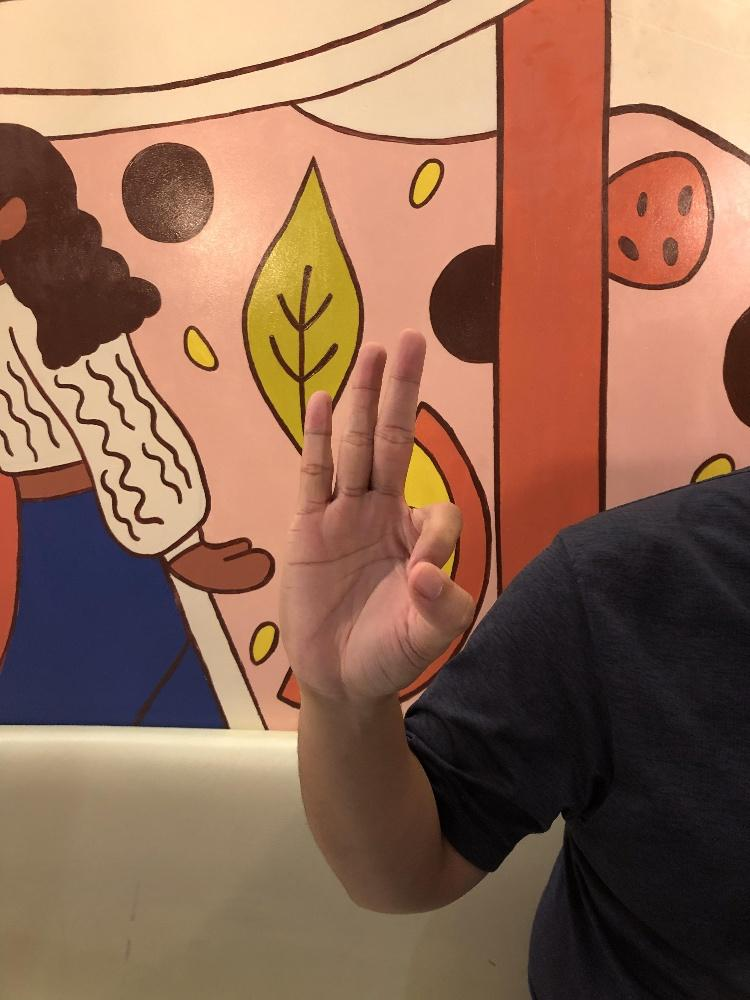f: (275, 326, 477, 699)
